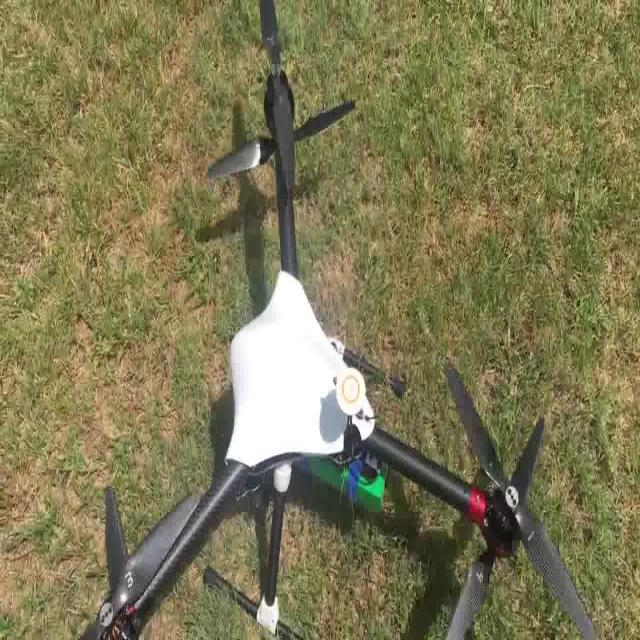drones: (76, 2, 603, 640)
